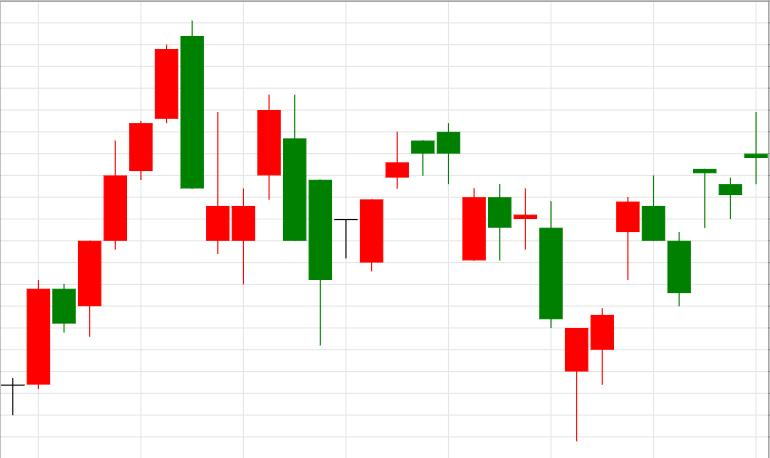bearish_engulfing_fall: (79, 19, 204, 338)
hammer_rise: (437, 124, 588, 442)
